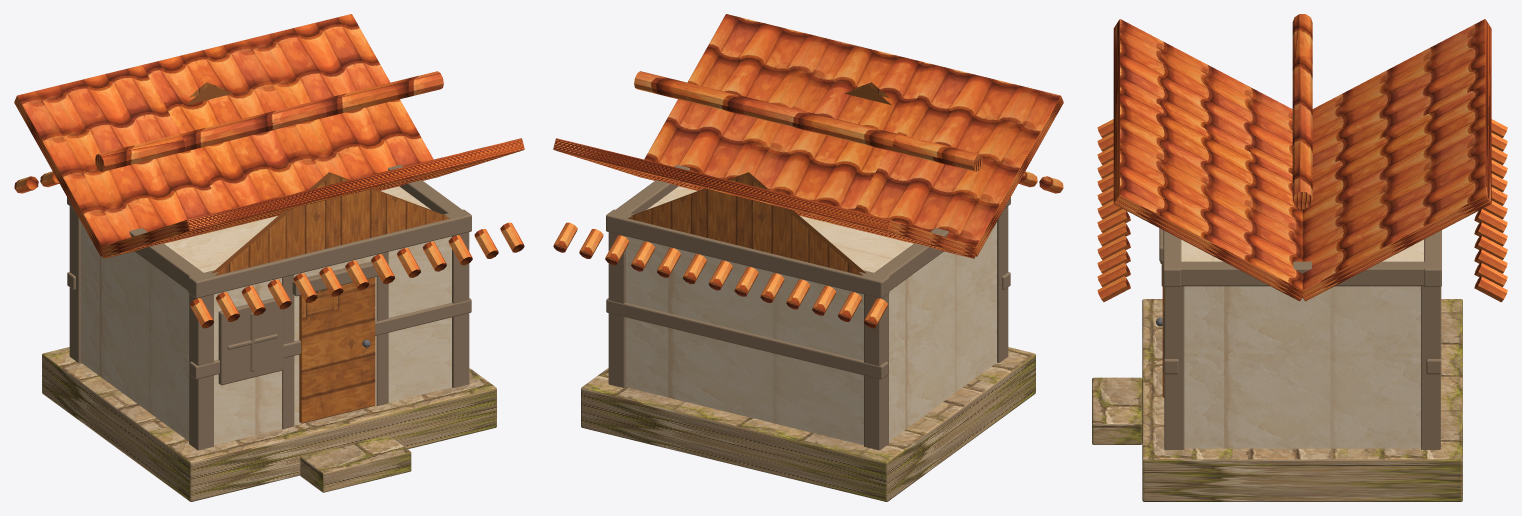
File: house-staged.glb
3 renders of one model, left to right at view 1: azimuth 30°, elevation 25°; view 2: azimuth 150°, elevation 25°; view 3: azimuth 270°, elevation 25°, orthographic. The views are drawn at different scales.
Visible parts, largest first — view 1: roof.001, walls, found, door, gable, roof, ridge, plate, step, winframe, post, post.002 (+8 smaller); view 2: roof, walls, found, gable.002, roof.001, ridge, plate.001, rail.001, post.001, post.003, post, plateS (+2 smaller); view 3: walls, roof, roof.001, found, ridge, plateS.001, step, post.002, post.003, plate, plate.001, eavetile.012 (+1 smaller).
Boxes of the visible parts, x1=… form: roof.001: x1=14, y1=14, x2=433, y2=256; walls: x1=81, y1=186, x2=451, y2=445; found: x1=42, y1=347, x2=496, y2=501; door: x1=299, y1=277, x2=375, y2=423; gable: x1=215, y1=174, x2=449, y2=275; roof: x1=100, y1=138, x2=524, y2=258; ridge: x1=95, y1=71, x2=443, y2=171; plate: x1=188, y1=209, x2=471, y2=298; step: x1=300, y1=435, x2=411, y2=492; winframe: x1=218, y1=298, x2=283, y2=385; post: x1=189, y1=293, x2=213, y2=450; post.002: x1=452, y1=232, x2=469, y2=387; roof: x1=644, y1=14, x2=1063, y2=256; walls: x1=626, y1=186, x2=996, y2=445; found: x1=581, y1=347, x2=1035, y2=501; gable.002: x1=628, y1=174, x2=862, y2=275; roof.001: x1=553, y1=138, x2=976, y2=258; ridge: x1=634, y1=71, x2=982, y2=171; plate.001: x1=606, y1=209, x2=889, y2=298; rail.001: x1=606, y1=298, x2=888, y2=379; post.001: x1=864, y1=293, x2=888, y2=450; post.003: x1=608, y1=232, x2=625, y2=387; post: x1=997, y1=206, x2=1008, y2=362; plateS: x1=869, y1=228, x2=948, y2=290; walls: x1=1181, y1=239, x2=1423, y2=448; roof: x1=1113, y1=19, x2=1304, y2=301; roof.001: x1=1301, y1=19, x2=1491, y2=301; found: x1=1142, y1=299, x2=1462, y2=501; ridge: x1=1292, y1=14, x2=1312, y2=209; plateS.001: x1=1180, y1=261, x2=1425, y2=286; step: x1=1092, y1=377, x2=1142, y2=444; post.002: x1=1164, y1=286, x2=1184, y2=449; post.003: x1=1421, y1=286, x2=1440, y2=449; plate: x1=1163, y1=230, x2=1181, y2=286; plate.001: x1=1424, y1=230, x2=1441, y2=286; eavetile.012: x1=1097, y1=276, x2=1130, y2=301.
Size of the model in its own units: 4.2 by 3.52 by 4.15.
9 materials, 6 textured.
